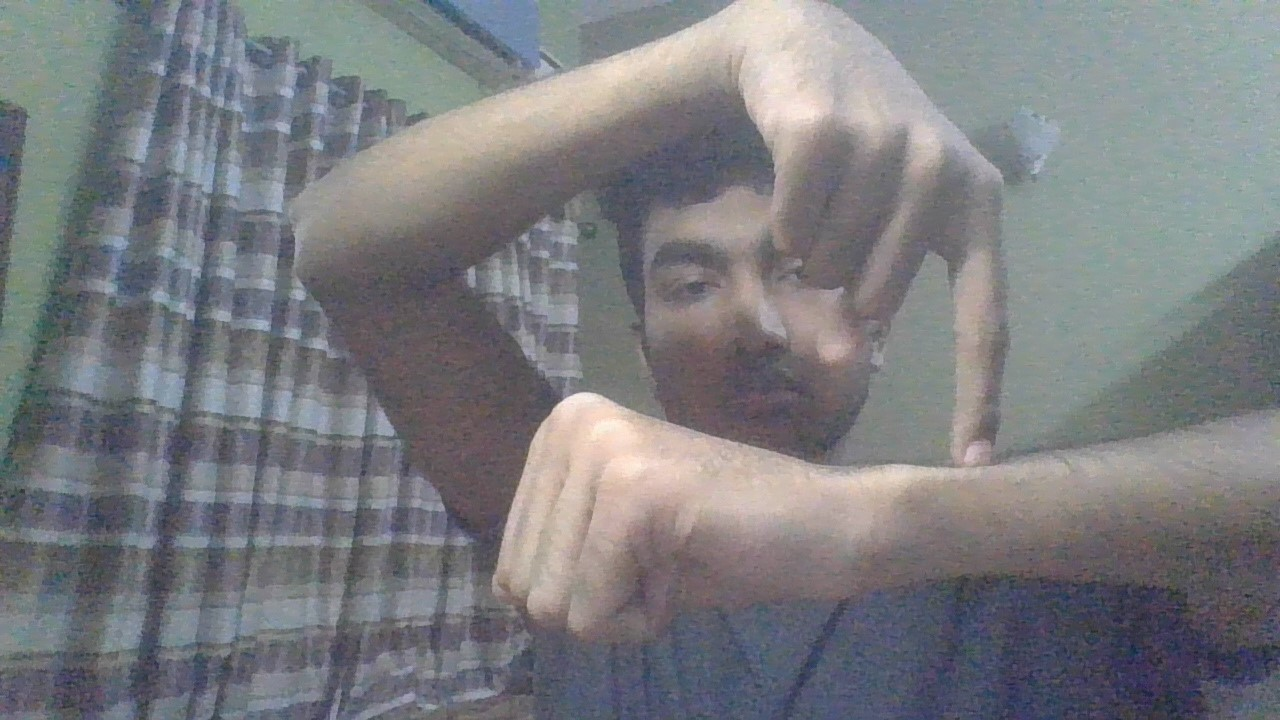Time: (509, 1, 1035, 640)
